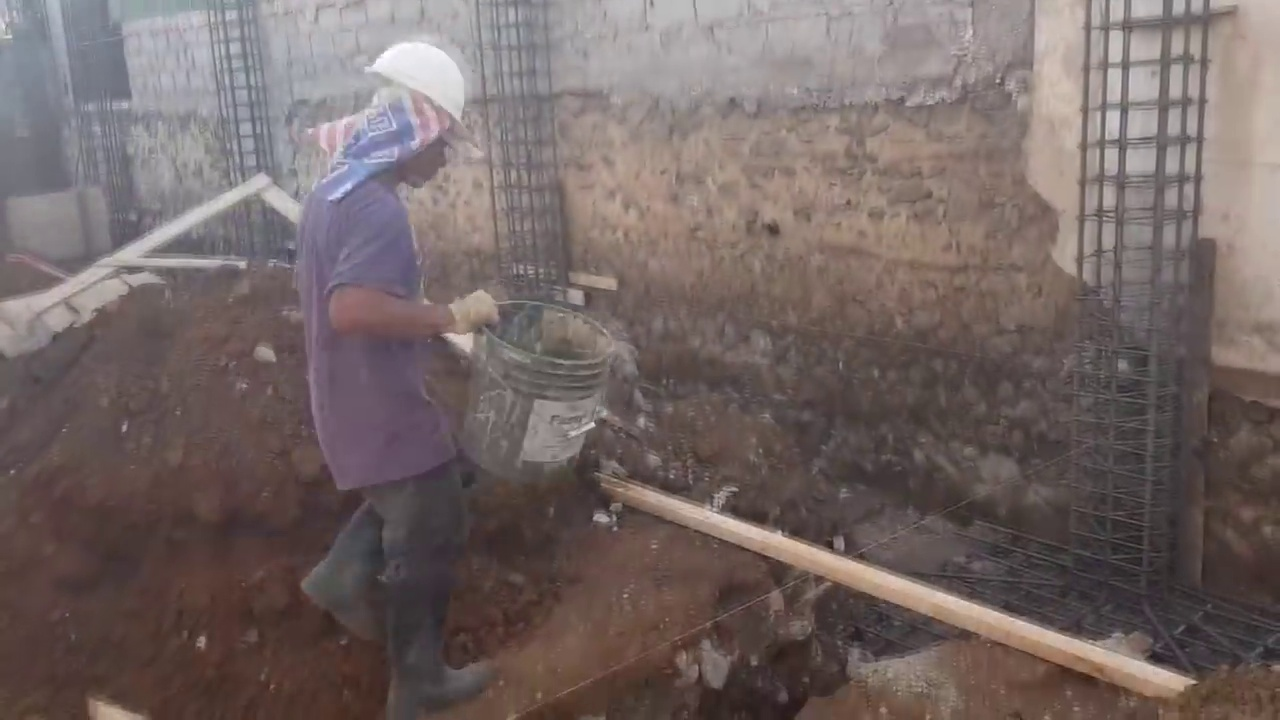helmet: (360, 30, 472, 124)
helmet-on: (359, 34, 474, 168)
person: (300, 42, 527, 700)
